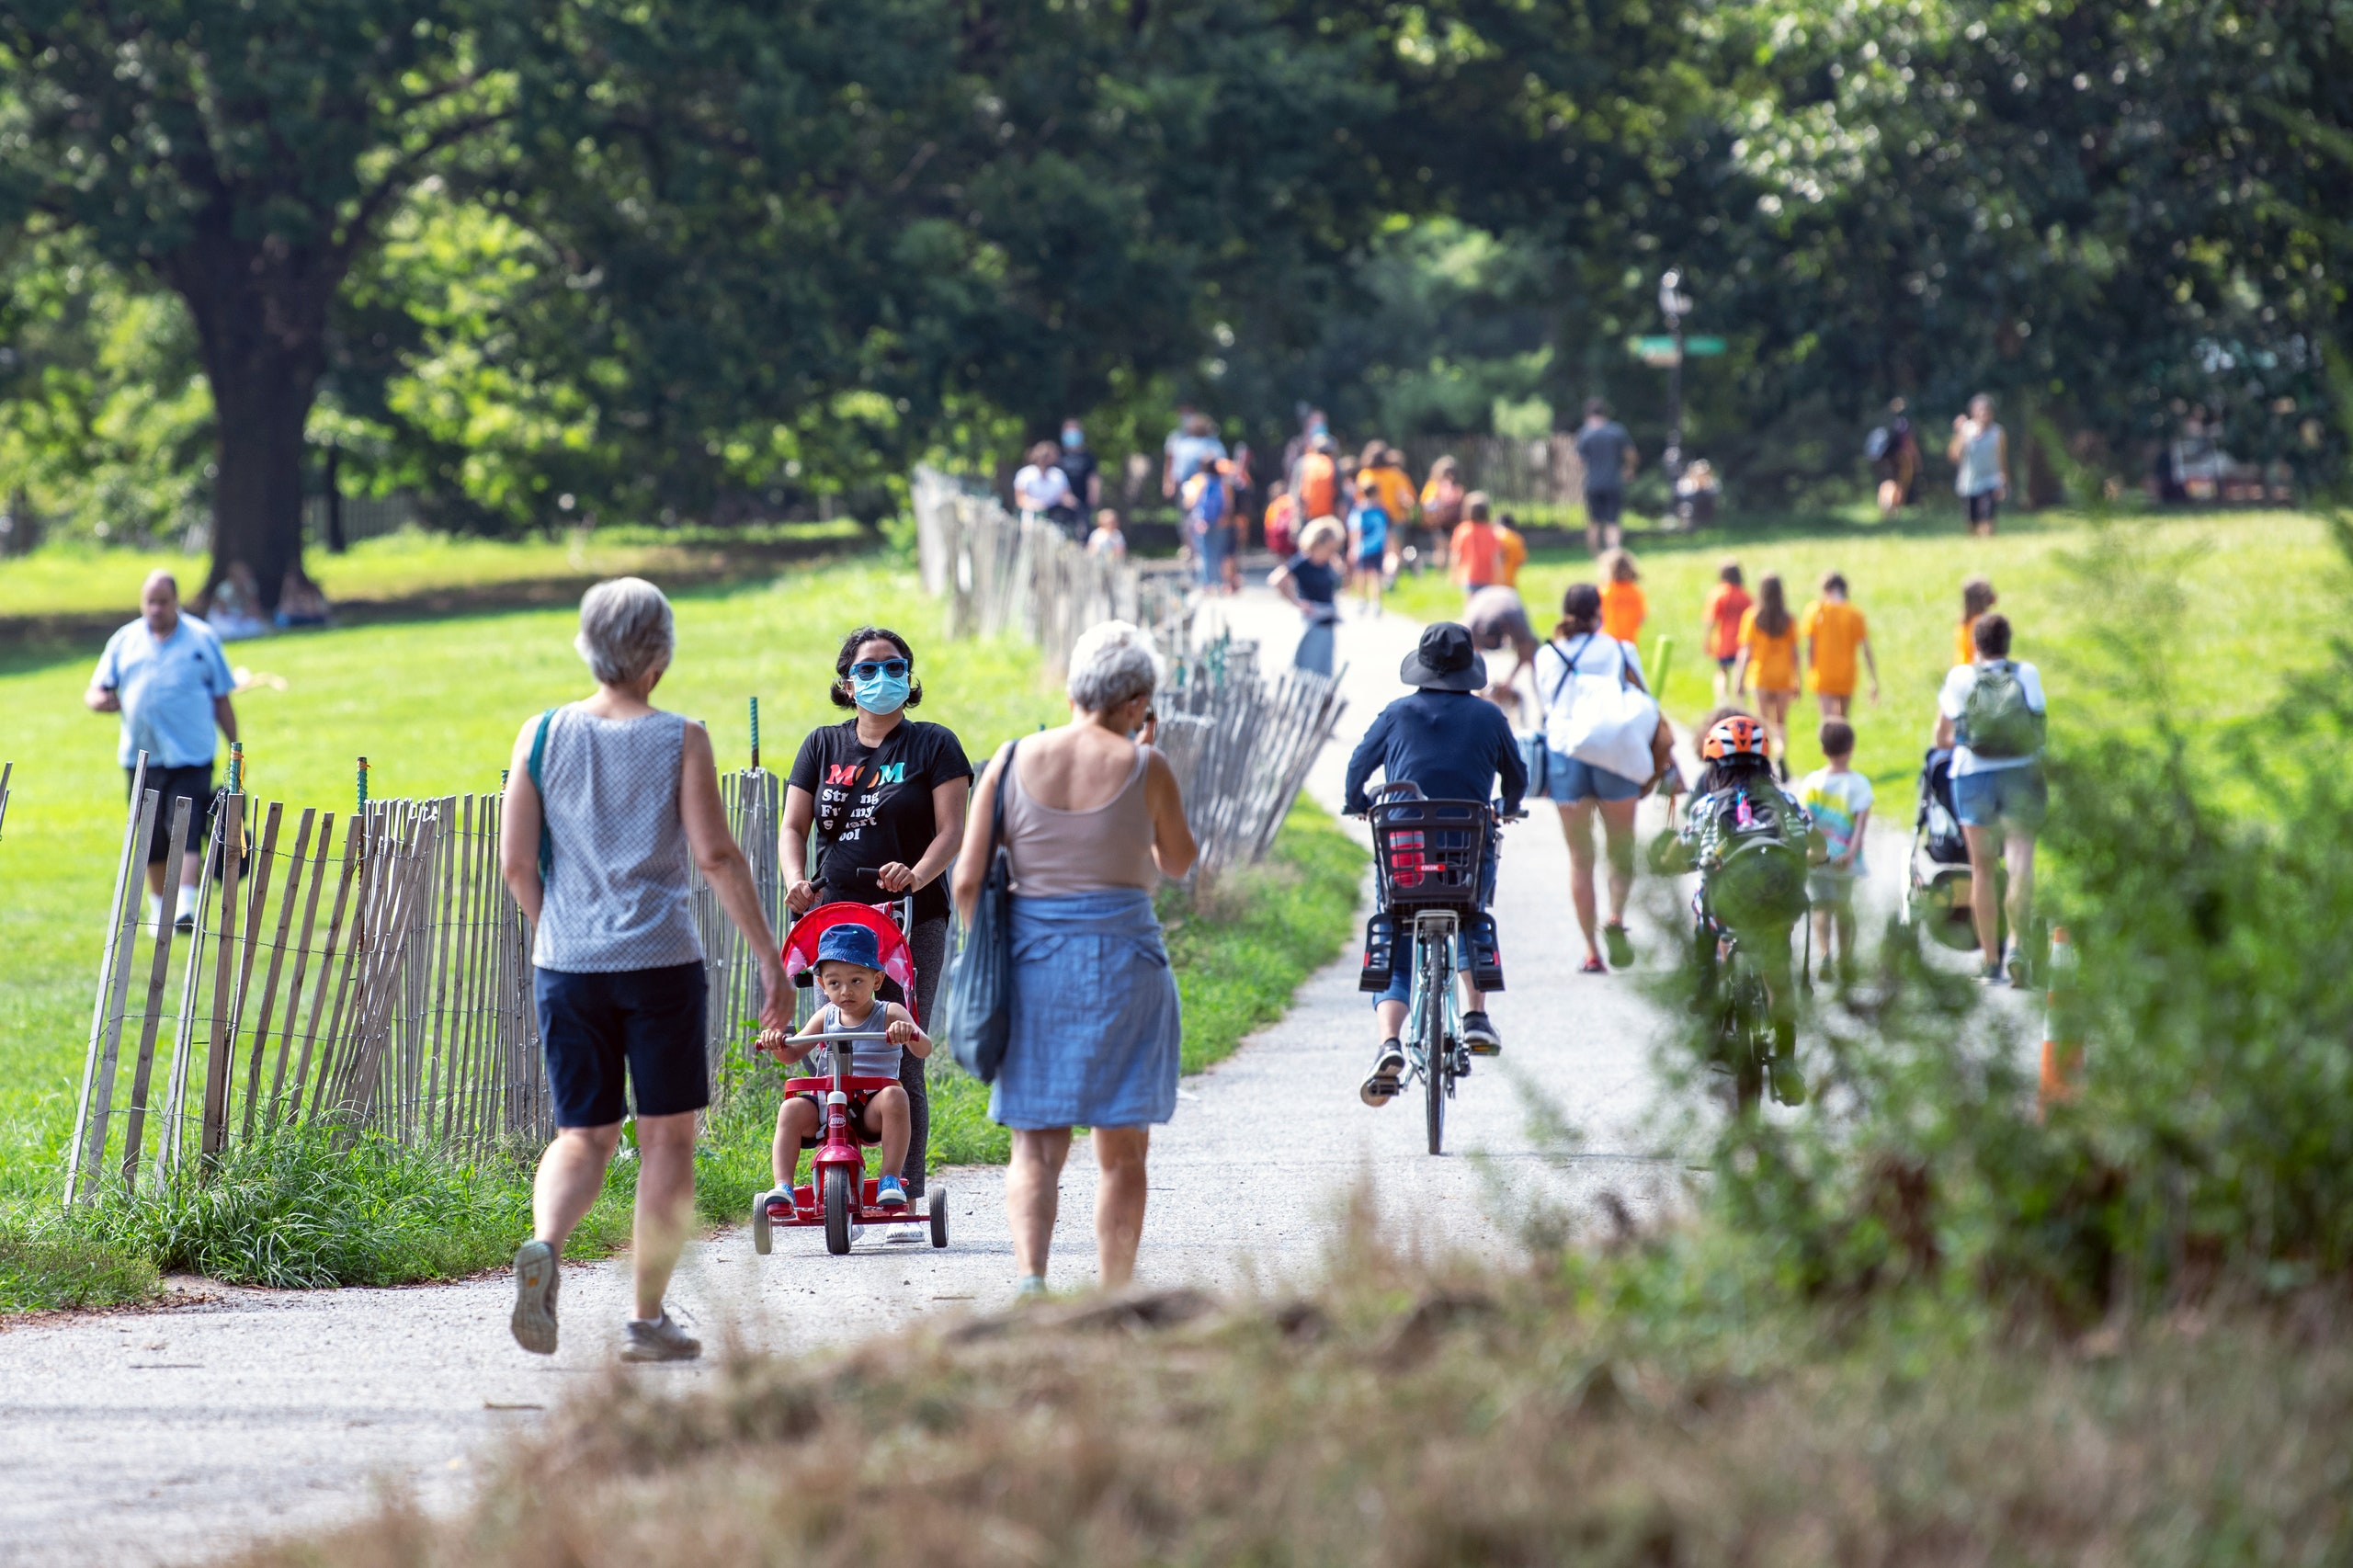person: (462, 564, 815, 1392), (933, 605, 1220, 1340), (767, 612, 988, 1237), (1319, 612, 1544, 1113), (1646, 700, 1841, 1127), (69, 561, 260, 954), (742, 910, 944, 1237), (1929, 601, 2073, 1009), (1514, 575, 1646, 994), (1779, 711, 1885, 1013)
